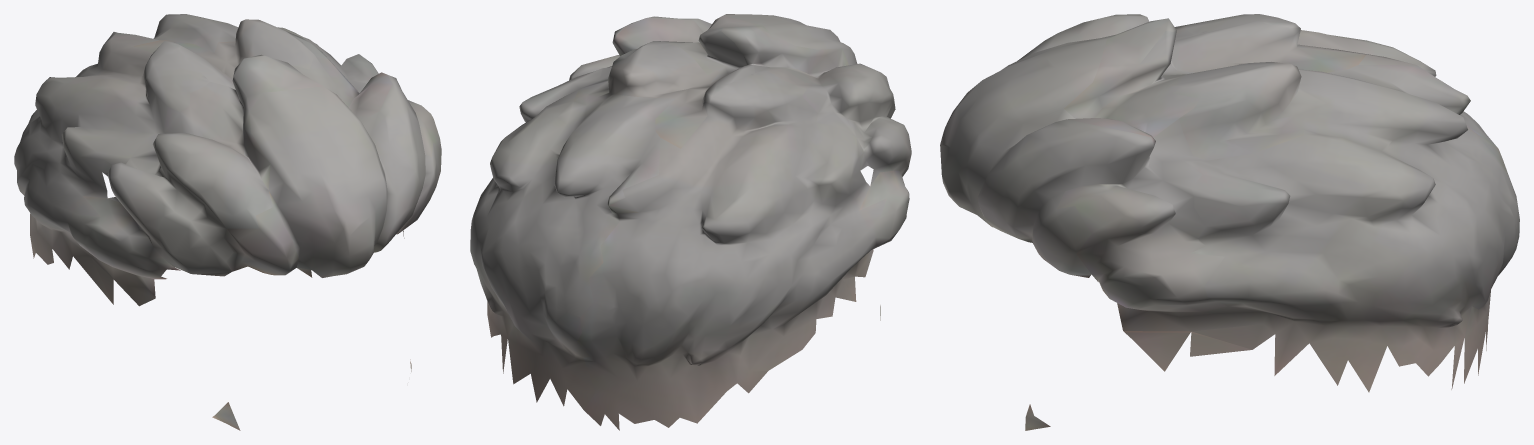
File: hair-m-fade.glb
The picture shows the model from 3 angles, left to right: view 1: azimuth 30°, elevation 25°; view 2: azimuth 150°, elevation 25°; view 3: azimuth 270°, elevation 25°; orthographic projection. The views are drawn at different scales.
Parts seen in each view (by area): view 1: hair-m-fade; view 2: hair-m-fade; view 3: hair-m-fade.
Part boxes in pixels (x1,y1,x2,y2): hair-m-fade: (14,14,441,430); hair-m-fade: (470,14,911,430); hair-m-fade: (940,14,1519,430).
Bounding box in the file's own units: 0.8203 × 0.7065 × 1.03.
1 material, 1 textured.
